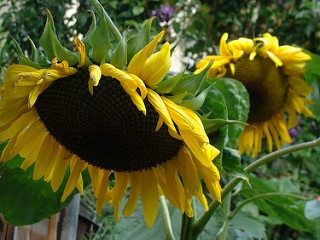flower: (1, 31, 227, 231), (195, 27, 320, 160)
